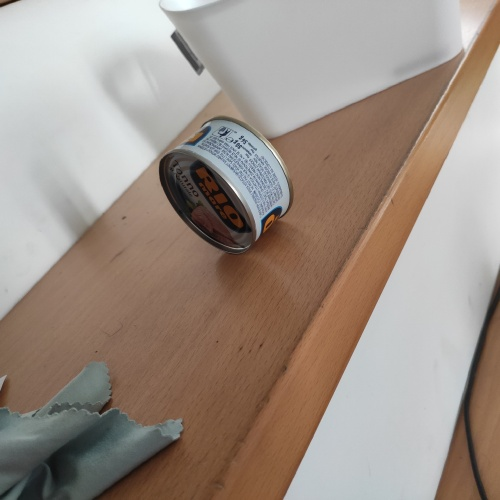tonno: (154, 109, 299, 255)
